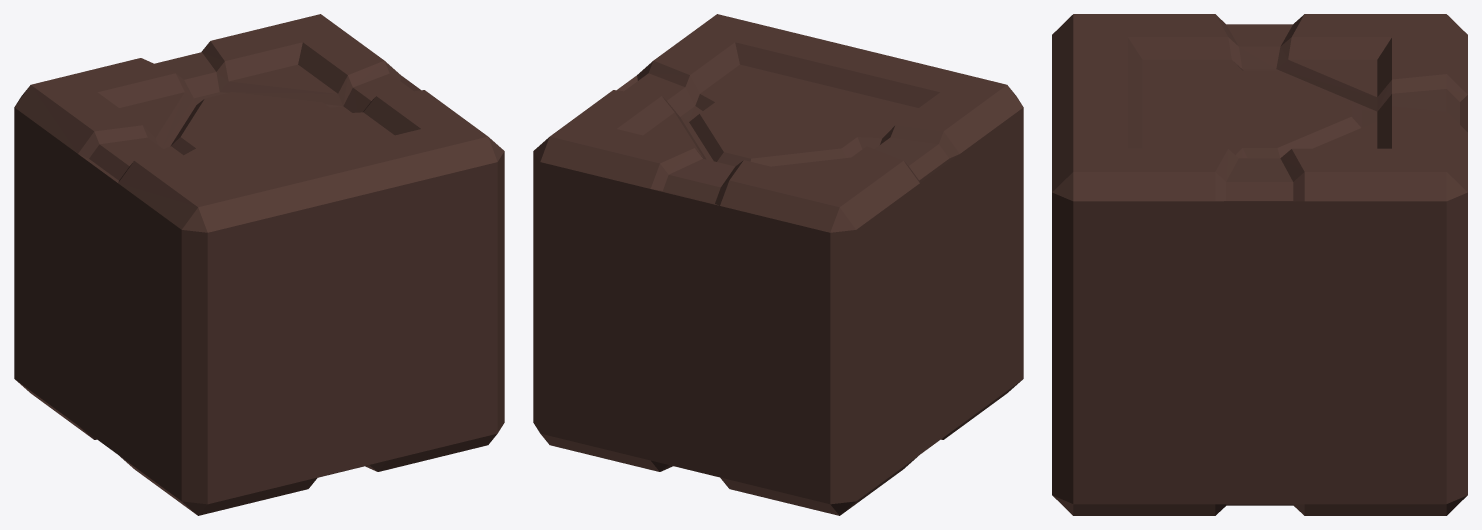
3 renders of one model, left to right at view 1: azimuth 30°, elevation 25°; view 2: azimuth 150°, elevation 25°; view 3: azimuth 270°, elevation 25°, orthographic. The views are drawn at different scales.
Parts seen in each view (by area): view 1: 002_Cube_007; view 2: 002_Cube_007; view 3: 002_Cube_007.
Part boxes in pixels (x1,y1,x2,y2): 002_Cube_007: (14,14,504,515); 002_Cube_007: (533,14,1023,515); 002_Cube_007: (1052,14,1467,515).
Bounding box in the file's own units: 29.14 × 26.61 × 29.14.
